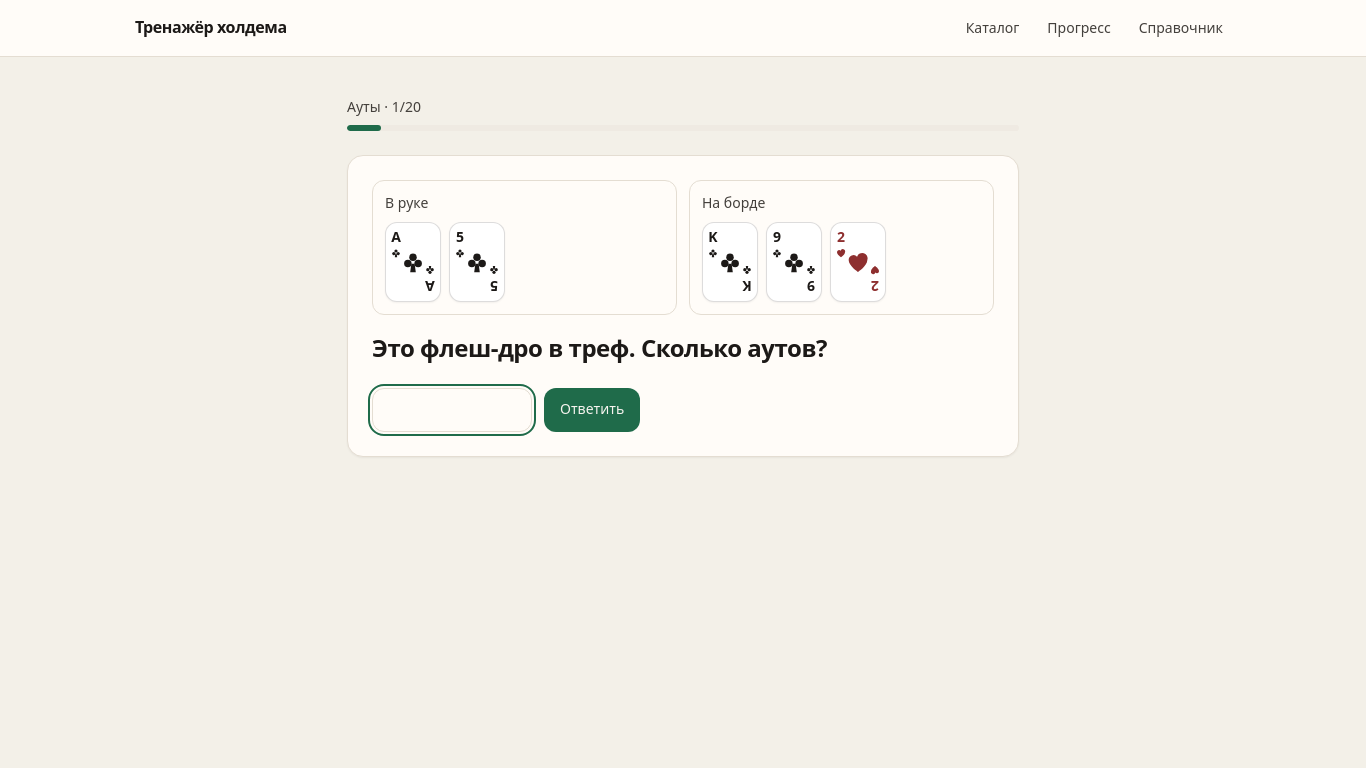
Test: неверный аут показывает формулу и остаётся на вопросе
In the field named "Ответ": (452, 410) [372,388,532,432], type "1"
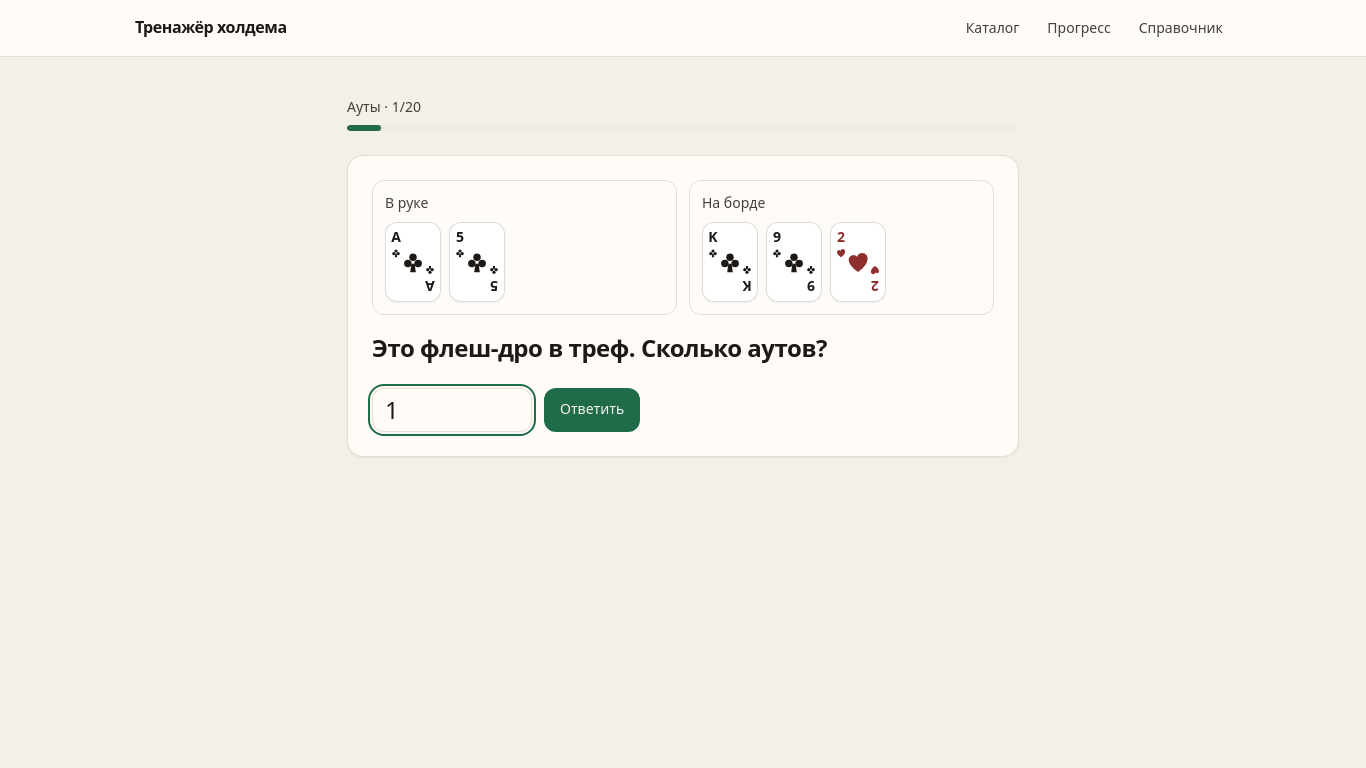
Submit the form labelled "Ответ", box [372,388,640,432]
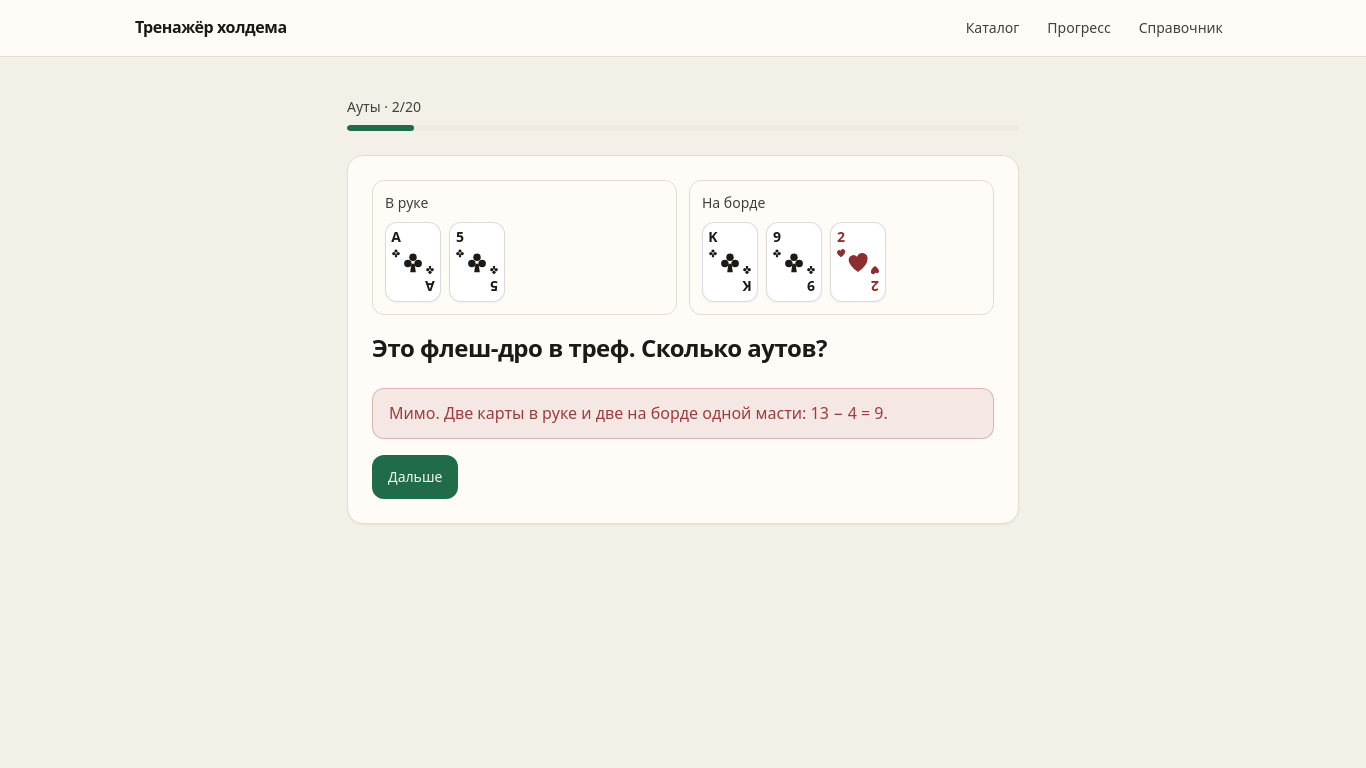
Now the text "Мимо" is shown, box [389,402,444,424]
